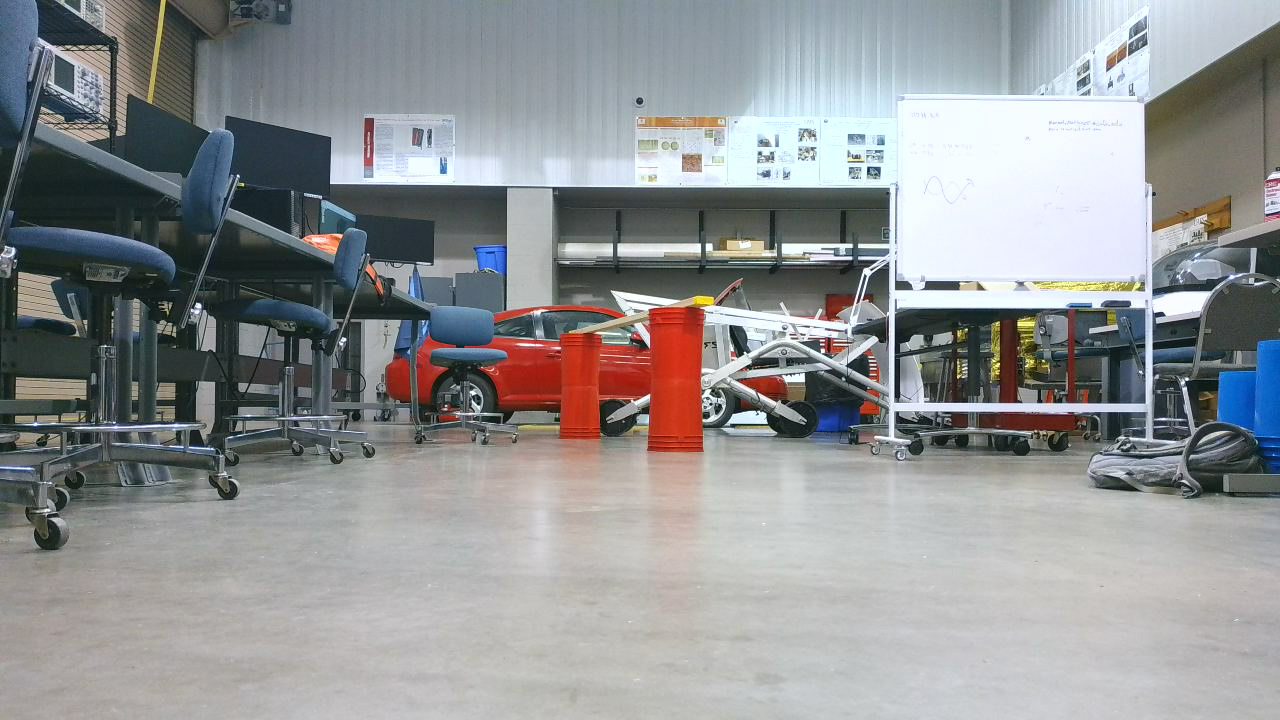red_bucket_arch: (557, 296, 724, 463)
